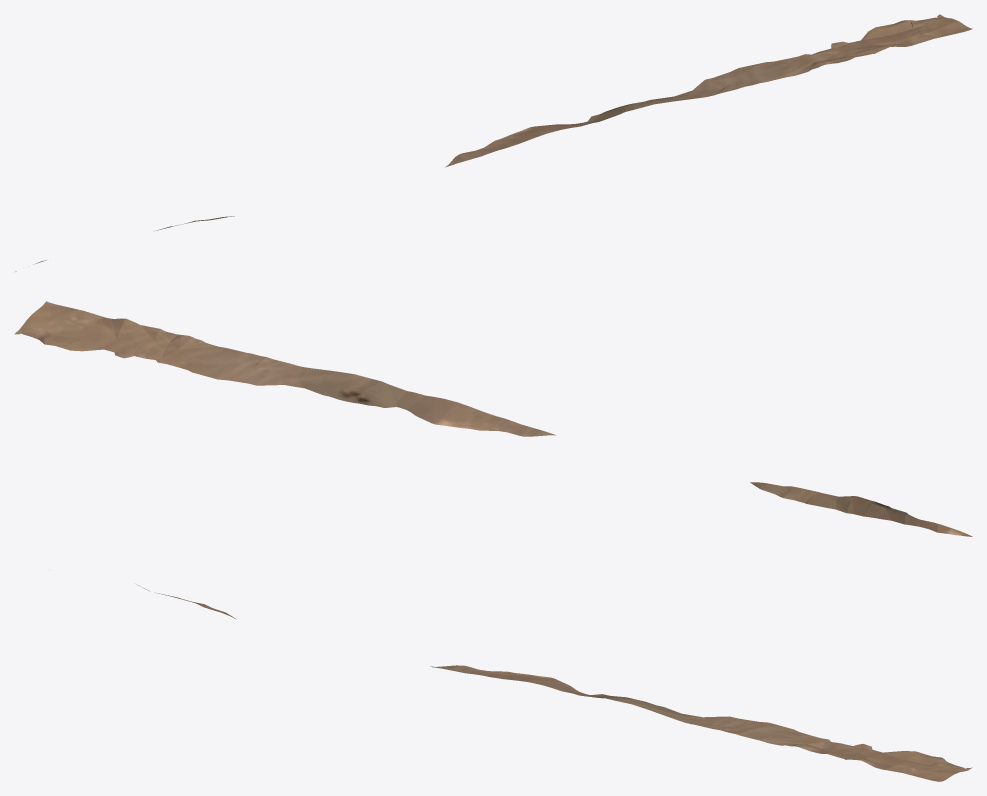
3 renders of one model, top to bottom at view 1: azimuth 30°, elevation 25°; view 2: azimuth 150°, elevation 25°; view 3: azimuth 330°, elevation 25°, orthographic. The views are drawn at different scales.
Size of the model in its own units: 3.74 by 0.0476 by 0.2449.
Materials: 1 (1 with a texture image).
